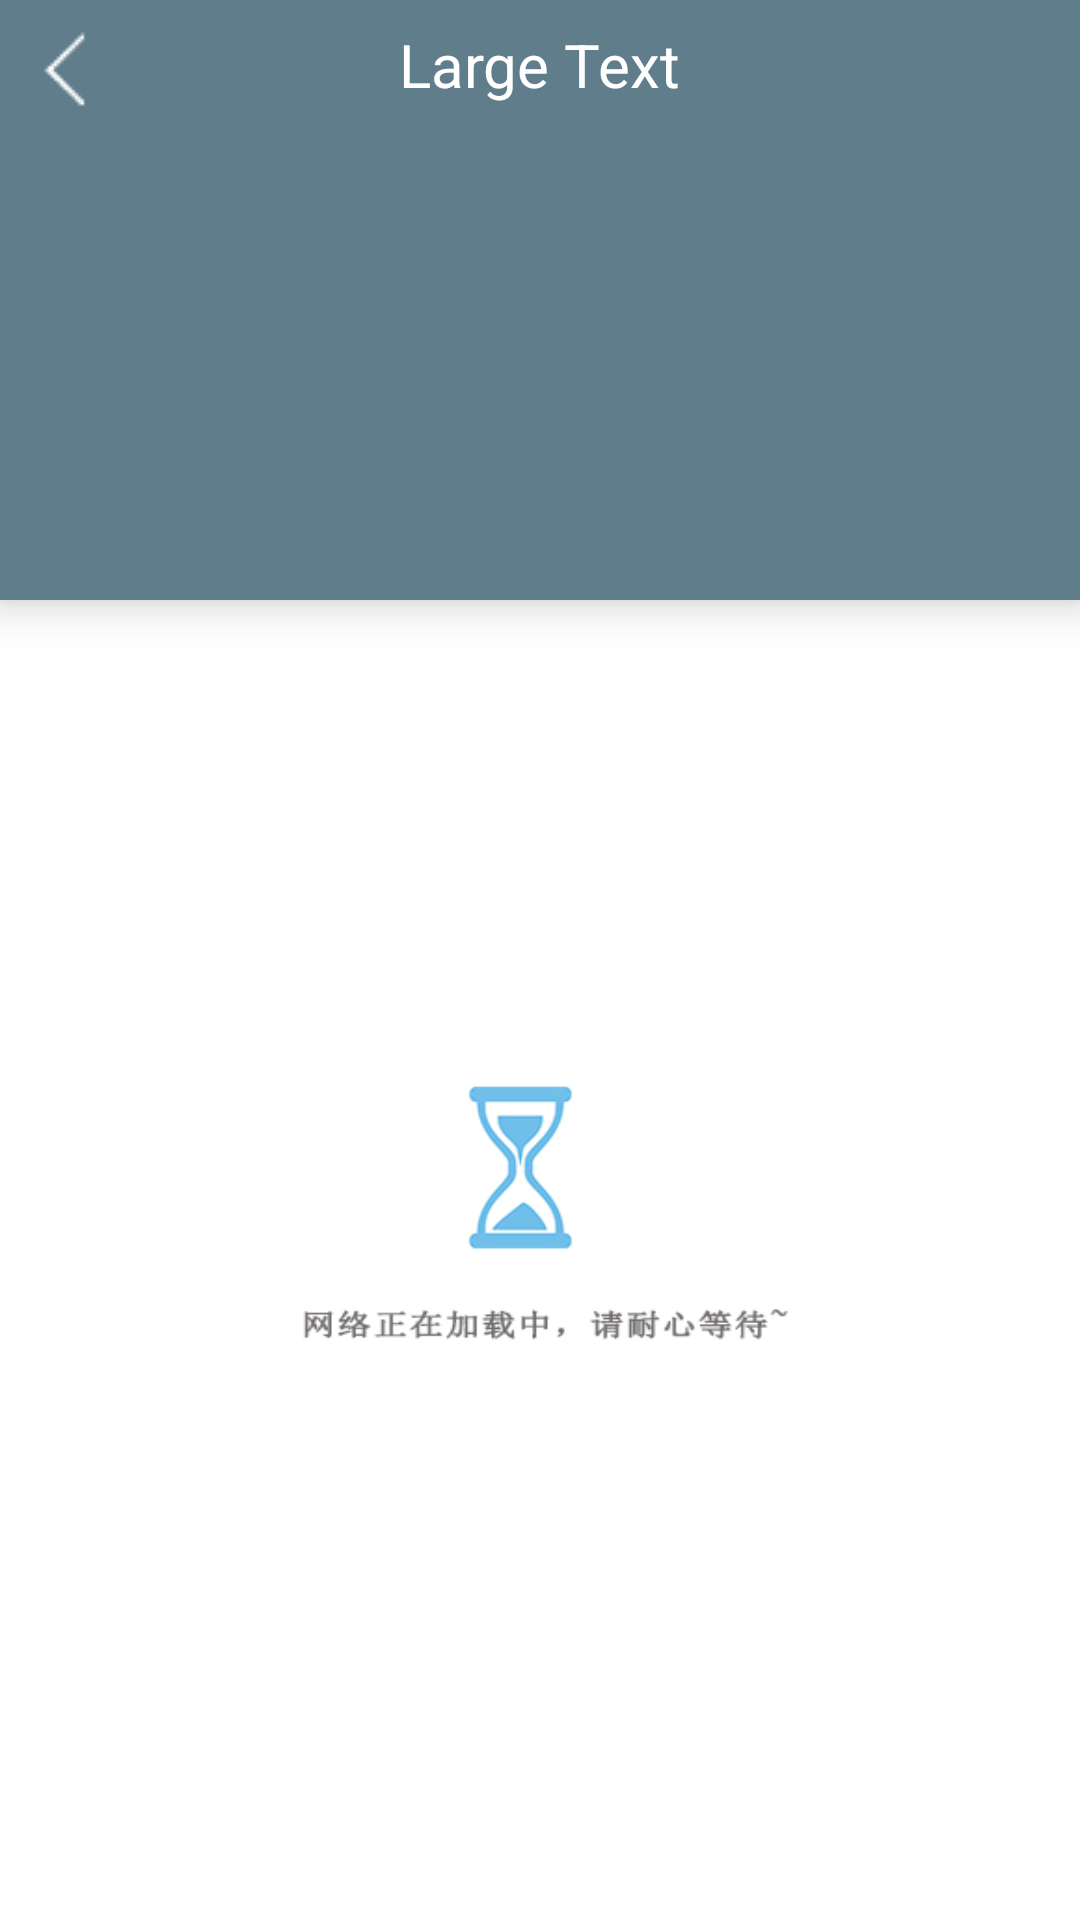

Where to tap for icons on this 1080w x 1920h app screen, as [x,y]:
back: [64,69]
